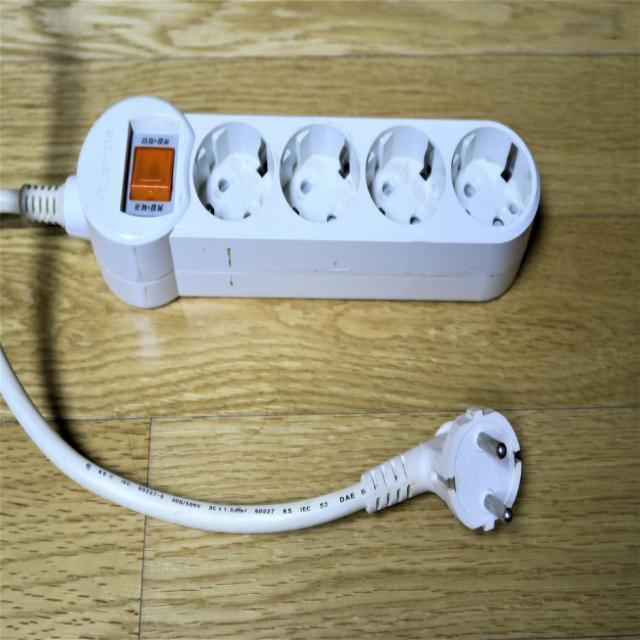typeb: (45, 58, 552, 382)
